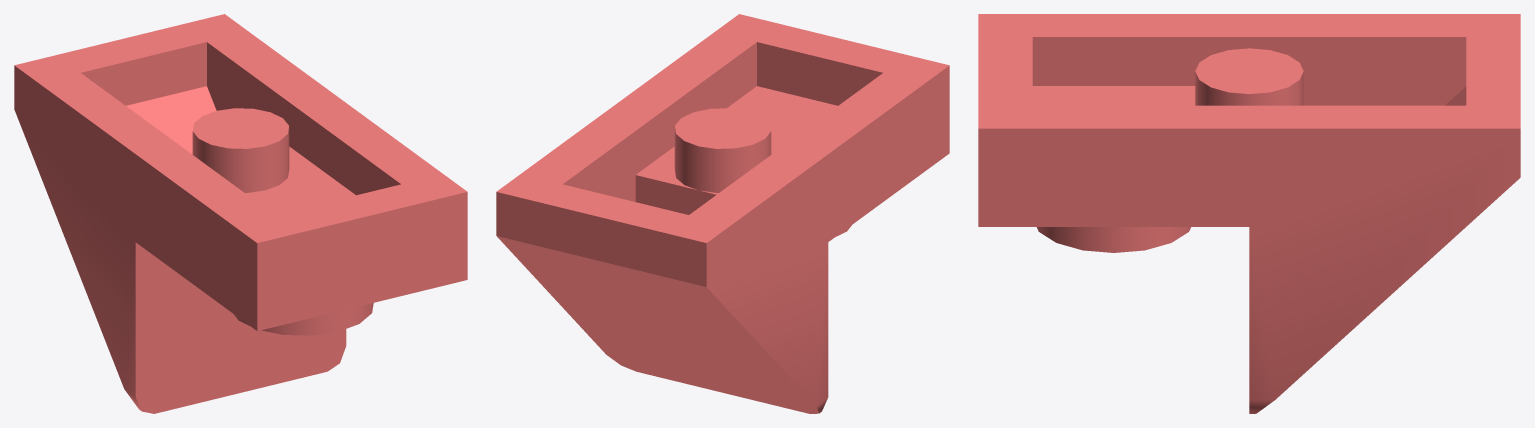
3 views of the same model, side by side, from view 1: azimuth 30°, elevation 25°; view 2: azimuth 150°, elevation 25°; view 3: azimuth 270°, elevation 25° (orthographic). The views are drawn at different scales.
Parts seen in each view (by area): view 1: LDrawPart; view 2: LDrawPart; view 3: LDrawPart.
Boxes of the visible parts, bbox=[...] form: LDrawPart: bbox=[14, 14, 467, 413]; LDrawPart: bbox=[496, 14, 949, 413]; LDrawPart: bbox=[978, 14, 1520, 413].
Size of the model in its own units: 0.14 by 0.168 by 0.28.
